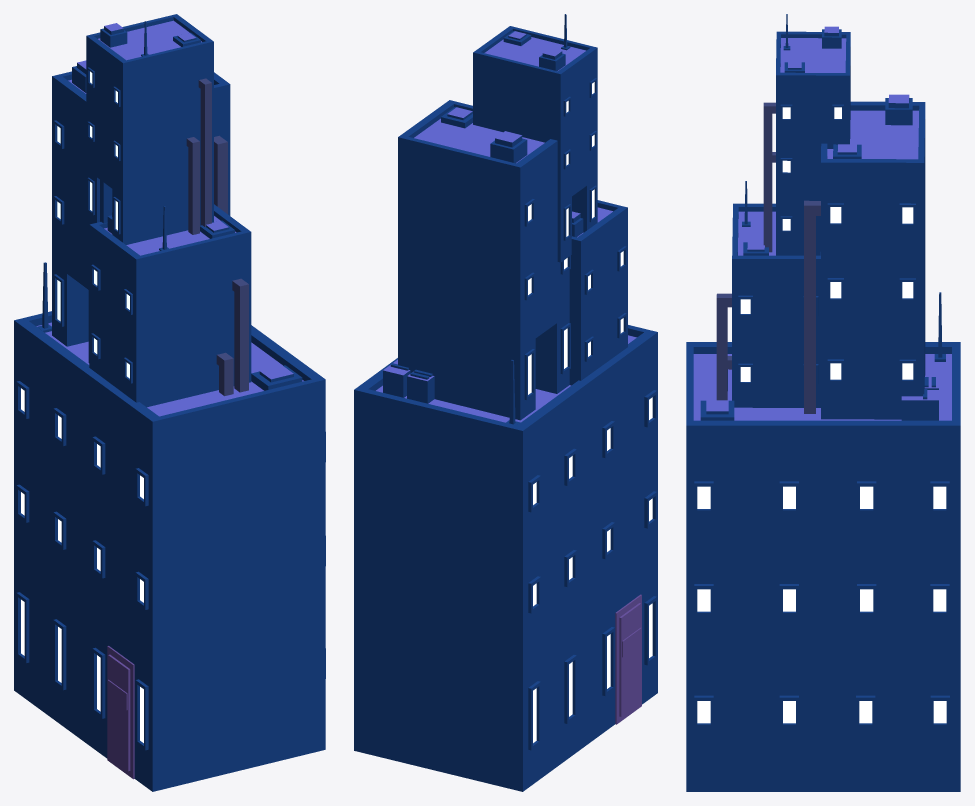
3 renders of one model, left to right at view 1: azimuth 30°, elevation 25°; view 2: azimuth 150°, elevation 25°; view 3: azimuth 270°, elevation 25°, orthographic. The views are drawn at different scales.
Parts seen in each view (by area): view 1: Building 04.003; view 2: Building 04.003; view 3: Building 04.003.
Boxes of the visible parts, left/top/right/bottom form: Building 04.003: left=14, top=14, right=325, bottom=791; Building 04.003: left=354, top=14, right=657, bottom=791; Building 04.003: left=686, top=14, right=960, bottom=791.
Bounding box in the file's own units: 3.61 × 13.71 × 4.77.
